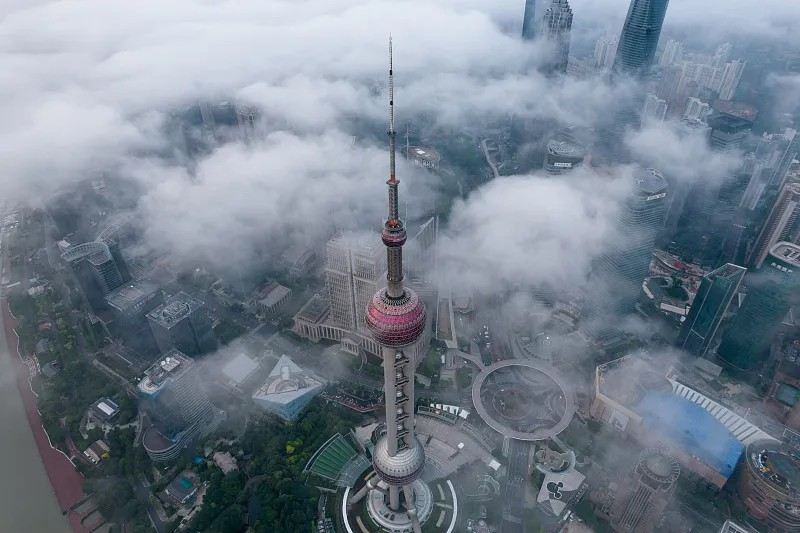Oriental: (347, 35, 428, 533)
